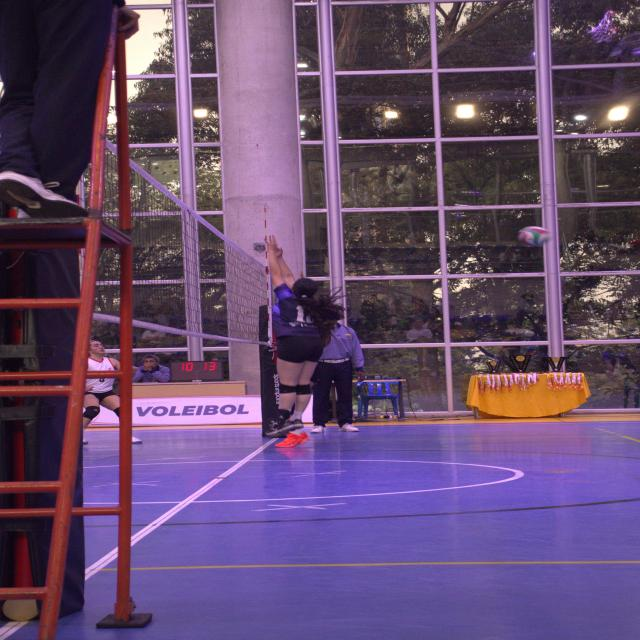volleyball: (517, 225, 550, 245)
